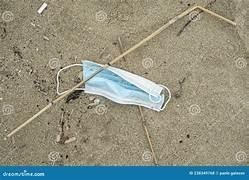Mask: (83, 66, 170, 110)
